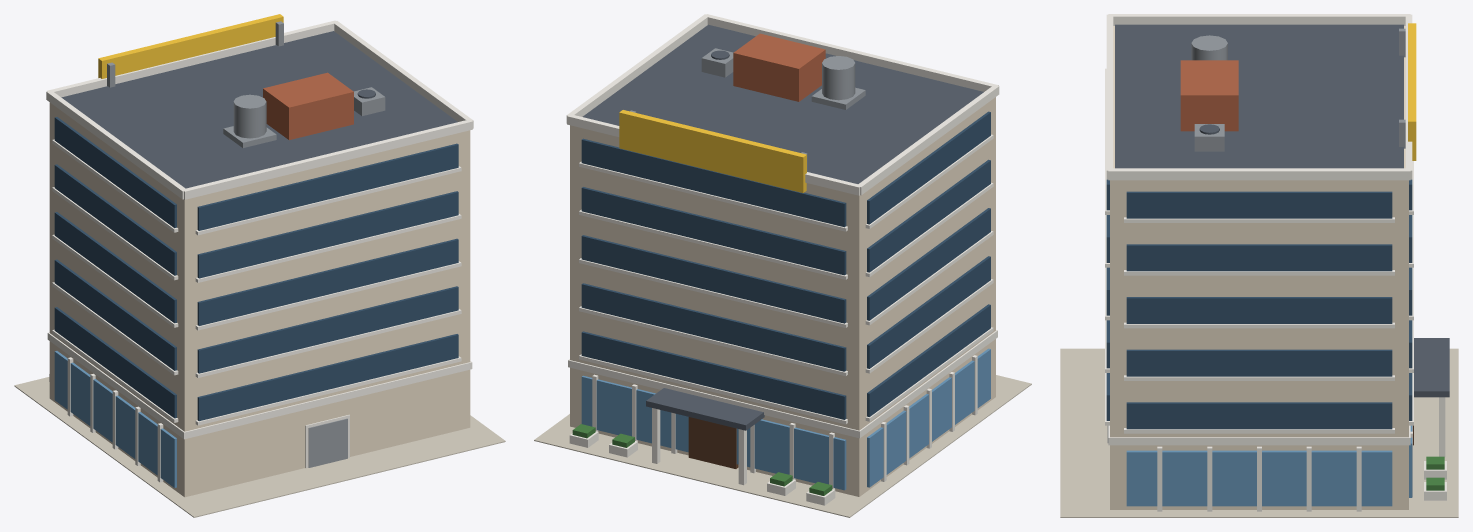
The picture shows the model from 3 angles, left to right: view 1: azimuth 30°, elevation 25°; view 2: azimuth 150°, elevation 25°; view 3: azimuth 270°, elevation 25°; orthographic projection. The views are drawn at different scales.
Parts seen in each view (by area): view 1: store, window_band (×10), roof, ground, sill (×10), parapet (×4), storefront, plant_room, sign, string_course, garage_door, water_tank (+1 smaller); view 2: window_band (×10), store, roof, storefront (×2), sill (×10), ground, parapet (×4), sign, plant_room, string_course, canopy, door (+2 smaller); view 3: store, window_band (×5), roof, ground, storefront, parapet (×4), sill (×5), plant_room, string_course, canopy, sign, water_tank (+1 smaller).
Part boxes in pixels (box(x1,y1,x2,y2)): store: box(49, 102, 470, 497); window_band (×10): box(54, 117, 458, 421); roof: box(61, 31, 457, 188); ground: box(14, 377, 505, 517); sill (×10): box(52, 139, 461, 425); parapet (×4): box(46, 20, 473, 199); storefront: box(54, 351, 176, 487); plant_room: box(263, 72, 353, 140); sign: box(98, 14, 283, 78); string_course: box(47, 332, 472, 439); garage_door: box(308, 418, 347, 467); water_tank: box(233, 94, 266, 138); window_band (×10): box(581, 111, 990, 419); store: box(570, 97, 995, 496); roof: box(582, 24, 983, 183); storefront (×2): box(581, 348, 990, 490); sill (×10): box(579, 134, 993, 424); ground: box(534, 375, 1031, 517); parapet (×4): box(566, 14, 999, 195); sign: box(619, 110, 806, 192); plant_room: box(733, 33, 825, 101); string_course: box(568, 330, 997, 438); canopy: box(646, 388, 764, 430); door: box(688, 417, 738, 468); store: box(1110, 26, 1408, 509); window_band (×5): box(1126, 191, 1392, 429); roof: box(1115, 24, 1403, 168); ground: box(1060, 348, 1458, 517); storefront: box(1126, 450, 1392, 506); parapet (×4): box(1106, 14, 1412, 180); sill (×5): box(1124, 217, 1394, 433); plant_room: box(1180, 60, 1238, 131); string_course: box(1108, 425, 1410, 445); canopy: box(1414, 338, 1449, 397); sign: box(1408, 23, 1416, 160); water_tank: box(1191, 35, 1227, 60).
Bounding box in the file's own units: 24 × 24.79 × 24.
